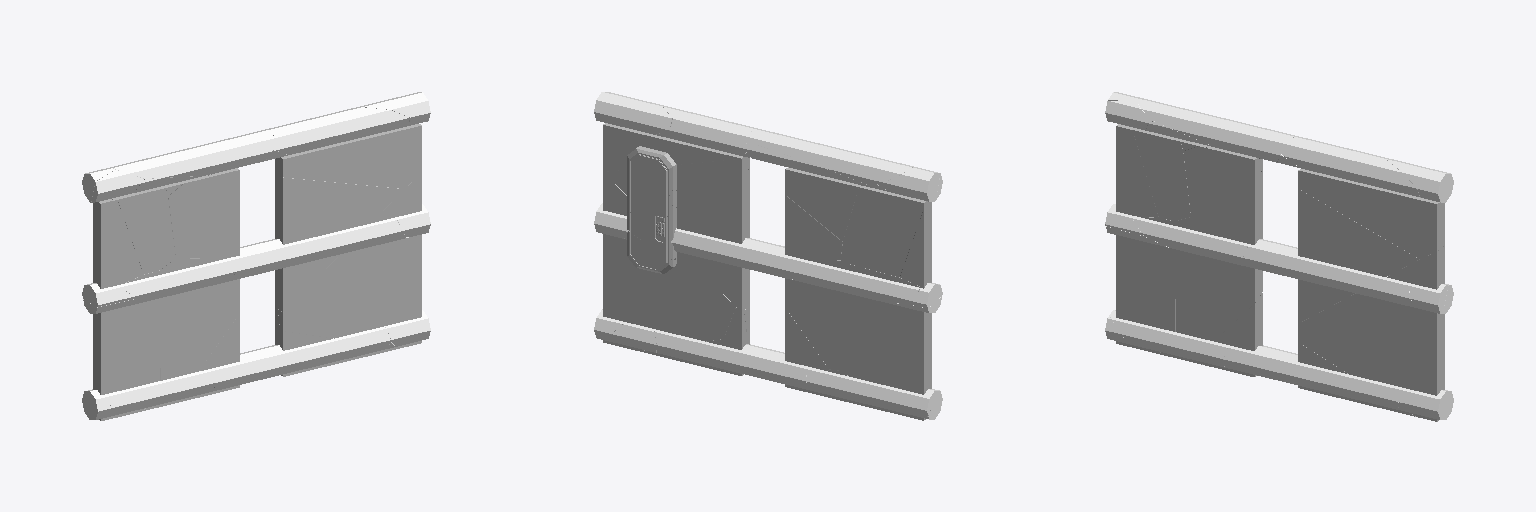
The model's file is BrokenObstacle.obj.
3 views of the same model, side by side, from view 1: azimuth 30°, elevation 25°; view 2: azimuth 150°, elevation 25°; view 3: azimuth 330°, elevation 25° (orthographic).
Parts seen in each view (by area): view 1: MeshInstance3D_cell.001, MeshInstance3D_cell.004, MeshInstance3D2_cell.002, MeshInstance3D_cell.002, MeshInstance3D2_cell.005, MeshInstance3D2_cell.006, CSGCylinder3D2_cell.002, CSGCylinder3D4_cell, CSGCylinder3D6_cell.007, CSGCylinder3D6_cell.001, MeshInstance3D2_cell, MeshInstance3D2_cell.003 (+9 smaller); view 2: MeshInstance3D_cell.001, MeshInstance3D2_cell.005, MeshInstance3D_cell.004, MeshInstance3D2_cell, CSGCylinder3D2_cell.002, MeshInstance3D2_cell.002, CSGCylinder3D6_cell.007, MeshInstance3D2_cell.001, CSGCylinder3D4_cell, CSGCylinder3D2_cell.001, MeshInstance3D_cell.002, CSGCylinder3D4_cell.002 (+15 smaller); view 3: MeshInstance3D_cell.001, MeshInstance3D_cell.004, MeshInstance3D_cell.002, MeshInstance3D2_cell.002, MeshInstance3D2_cell.006, MeshInstance3D2_cell.005, CSGCylinder3D2_cell.002, CSGCylinder3D4_cell, CSGCylinder3D6_cell.007, CSGCylinder3D6_cell.001, MeshInstance3D2_cell, MeshInstance3D2_cell.003 (+9 smaller).
Part boxes in pixels (bbox=[...]): MeshInstance3D_cell.001: bbox=[278, 173, 421, 347]; MeshInstance3D_cell.004: bbox=[275, 158, 403, 311]; MeshInstance3D2_cell.002: bbox=[160, 258, 239, 380]; MeshInstance3D_cell.002: bbox=[277, 124, 421, 188]; MeshInstance3D2_cell.005: bbox=[93, 270, 160, 420]; MeshInstance3D2_cell.006: bbox=[168, 168, 239, 258]; CSGCylinder3D2_cell.002: bbox=[213, 327, 390, 390]; CSGCylinder3D4_cell: bbox=[231, 217, 405, 280]; CSGCylinder3D6_cell.007: bbox=[112, 129, 273, 178]; CSGCylinder3D6_cell.001: bbox=[269, 107, 409, 154]; MeshInstance3D2_cell: bbox=[112, 186, 175, 273]; MeshInstance3D2_cell.003: bbox=[93, 199, 143, 288]; MeshInstance3D_cell.001: bbox=[603, 172, 749, 350]; MeshInstance3D2_cell.005: bbox=[843, 263, 931, 420]; MeshInstance3D_cell.004: bbox=[604, 159, 749, 310]; MeshInstance3D2_cell: bbox=[841, 186, 924, 276]; CSGCylinder3D2_cell.002: bbox=[654, 329, 809, 389]; MeshInstance3D2_cell.002: bbox=[785, 260, 842, 370]; CSGCylinder3D6_cell.007: bbox=[747, 129, 911, 185]; MeshInstance3D2_cell.001: bbox=[785, 167, 861, 240]; CSGCylinder3D4_cell: bbox=[625, 228, 792, 279]; CSGCylinder3D2_cell.001: bbox=[806, 367, 937, 417]; MeshInstance3D_cell.002: bbox=[603, 123, 749, 171]; CSGCylinder3D4_cell.002: bbox=[788, 256, 919, 303]; MeshInstance3D_cell.001: bbox=[1298, 246, 1444, 421]; MeshInstance3D_cell.004: bbox=[1298, 189, 1418, 323]; MeshInstance3D_cell.002: bbox=[1298, 169, 1444, 258]; MeshInstance3D2_cell.002: bbox=[1175, 217, 1262, 340]; MeshInstance3D2_cell.006: bbox=[1183, 146, 1262, 244]; MeshInstance3D2_cell.005: bbox=[1116, 217, 1175, 353]; CSGCylinder3D2_cell.002: bbox=[1224, 345, 1398, 409]; CSGCylinder3D4_cell: bbox=[1243, 239, 1416, 307]; CSGCylinder3D6_cell.007: bbox=[1136, 98, 1298, 162]; CSGCylinder3D6_cell.001: bbox=[1282, 137, 1419, 196]; MeshInstance3D2_cell: bbox=[1130, 127, 1190, 220]; MeshInstance3D2_cell.003: bbox=[1116, 124, 1158, 217].
Size of the model in its own units: 4.8 by 3.4 by 0.4222.